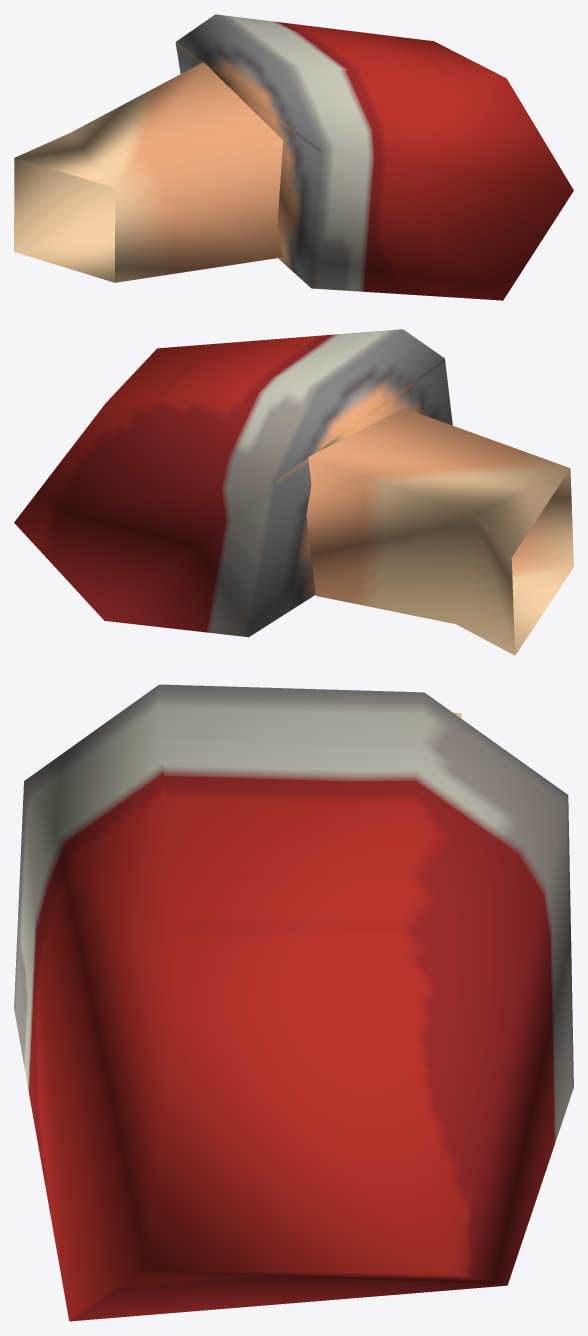
File: Roll_RightArm.obj
3 renders of one model, top to bottom at view 1: azimuth 30°, elevation 25°; view 2: azimuth 150°, elevation 25°; view 3: azimuth 270°, elevation 25°, orthographic. The views are drawn at different scales.
Parts seen in each view (by area): view 1: RightArm_Arms.001; view 2: RightArm_Arms.001; view 3: RightArm_Arms.001.
Part boxes in pixels (bbox=[...]): RightArm_Arms.001: bbox=[14, 14, 573, 300]; RightArm_Arms.001: bbox=[14, 329, 573, 655]; RightArm_Arms.001: bbox=[14, 684, 573, 1321].
Size of the model in its own units: 1.02 by 0.5408 by 0.5854.
1 material, 1 textured.
